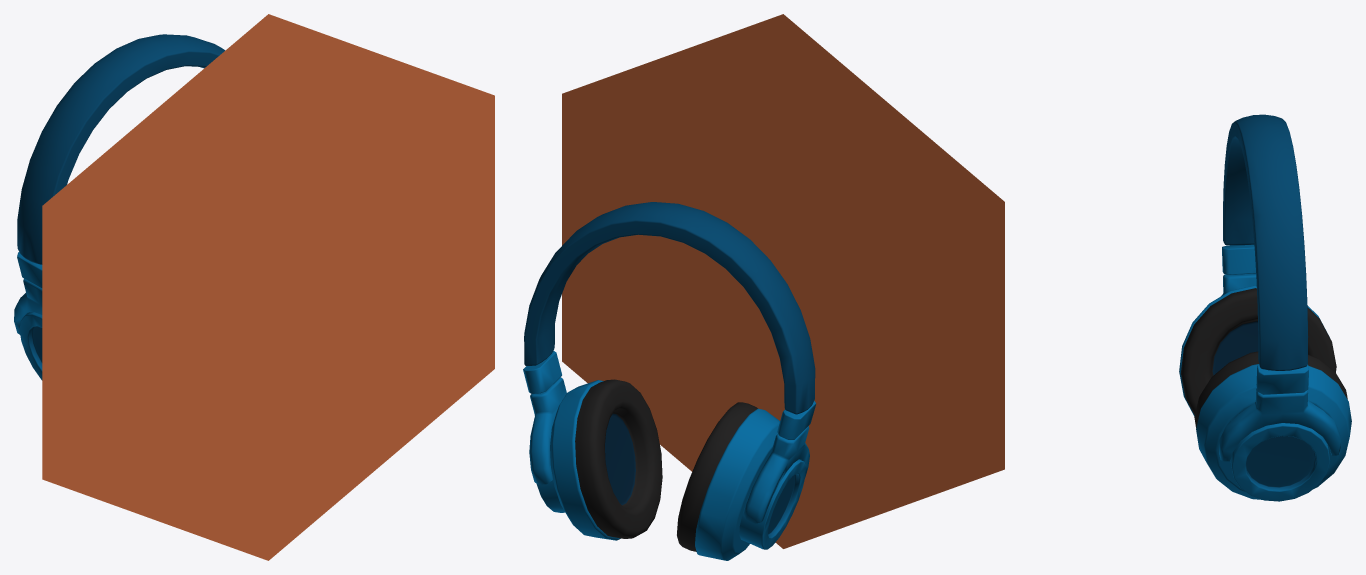
Rendered from headphone.dae.
3 renders of one model, left to right at view 1: azimuth 30°, elevation 25°; view 2: azimuth 150°, elevation 25°; view 3: azimuth 270°, elevation 25°, orthographic. The views are drawn at different scales.
Parts seen in each view (by area): view 1: background_01, Headphones_01; view 2: background_01, Headphones_01; view 3: Headphones_01.
Boxes of the visible parts, x1,y1,x2,y2 form: background_01: [42, 14, 494, 560]; Headphones_01: [14, 34, 225, 380]; background_01: [562, 14, 1004, 548]; Headphones_01: [523, 202, 816, 560]; Headphones_01: [1179, 114, 1351, 501].
Size of the model in its own units: 0.1542 by 0.0941 by 0.1781.
Materials: 2 (1 with a texture image).
